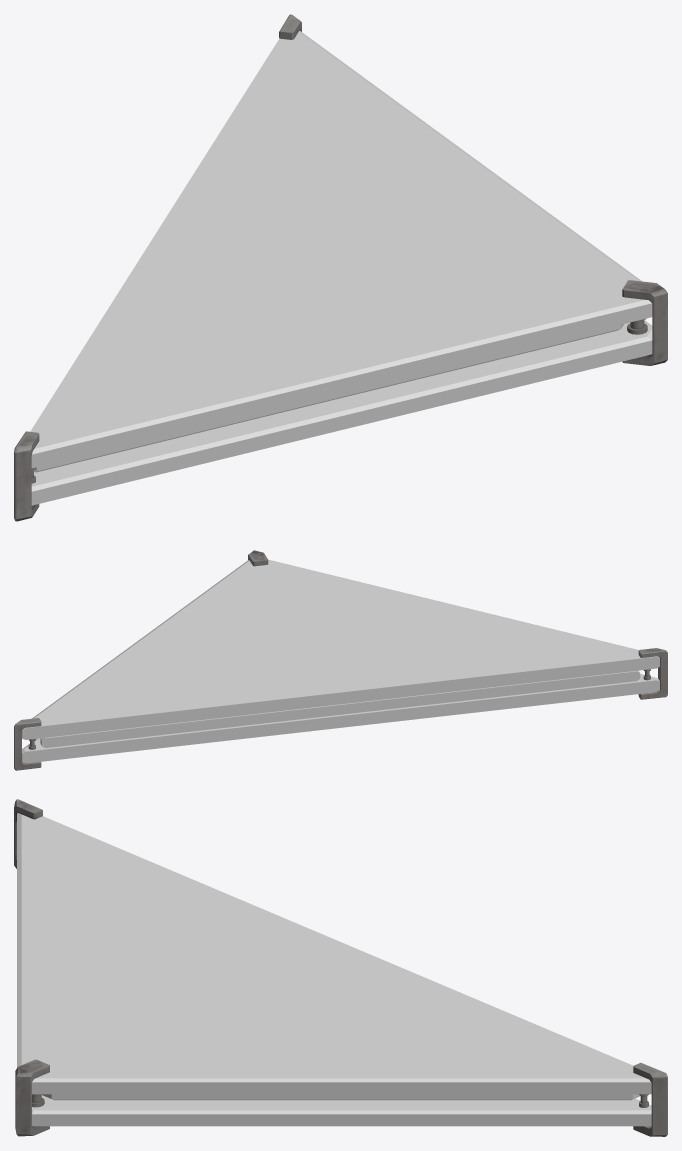
The model's file is SM_RoofTriangle_Glass_8da58b.glb.
The picture shows the model from 3 angles, top to bottom: view 1: azimuth 30°, elevation 25°; view 2: azimuth 150°, elevation 25°; view 3: azimuth 270°, elevation 25°; orthographic projection. The views are drawn at different scales.
Size of the model in its own units: 4.01 by 0.4276 by 4.01.
Materials: 2 (1 with a texture image).
